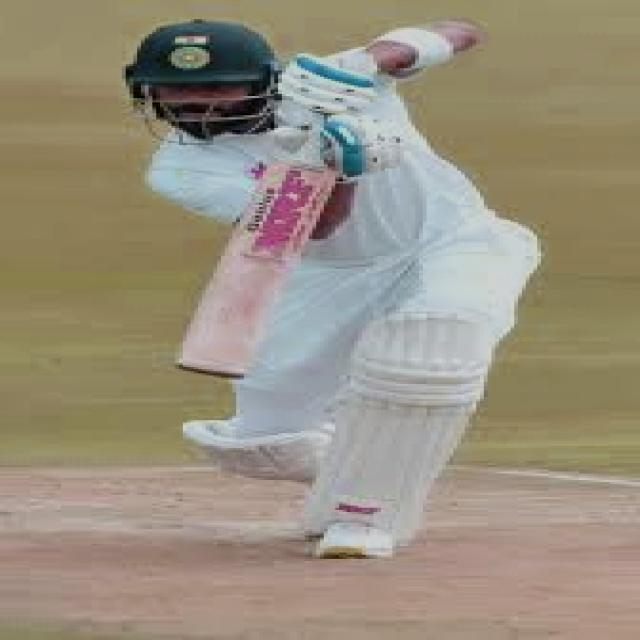bat: (167, 153, 311, 403)
toe: (173, 358, 251, 383)
